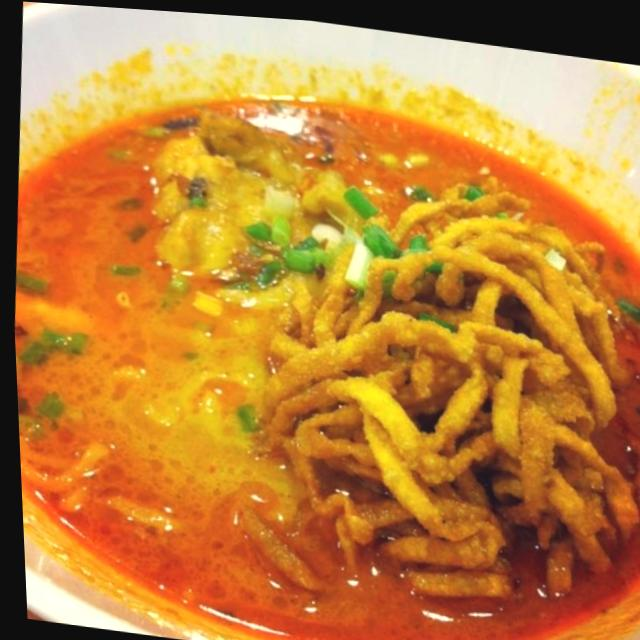面条主食: (4, 27, 640, 640)
